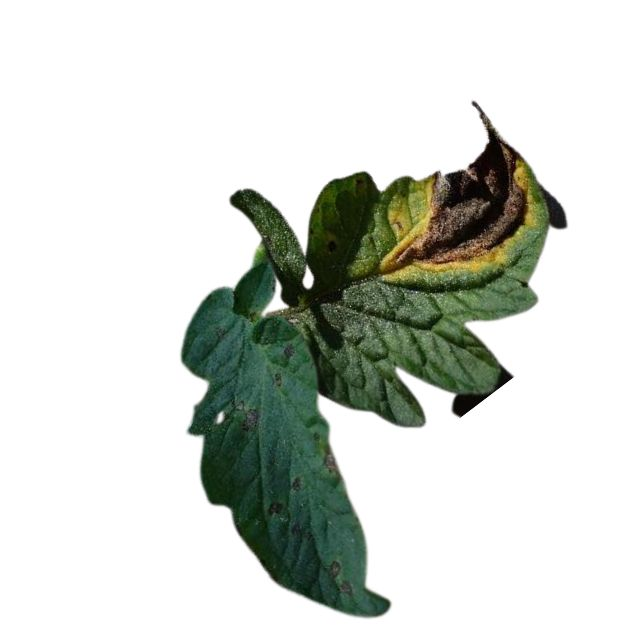Early_blight: (371, 102, 530, 281), (239, 405, 260, 432), (322, 449, 340, 472), (324, 559, 341, 578), (267, 498, 283, 517), (283, 341, 295, 358), (337, 582, 350, 595)
